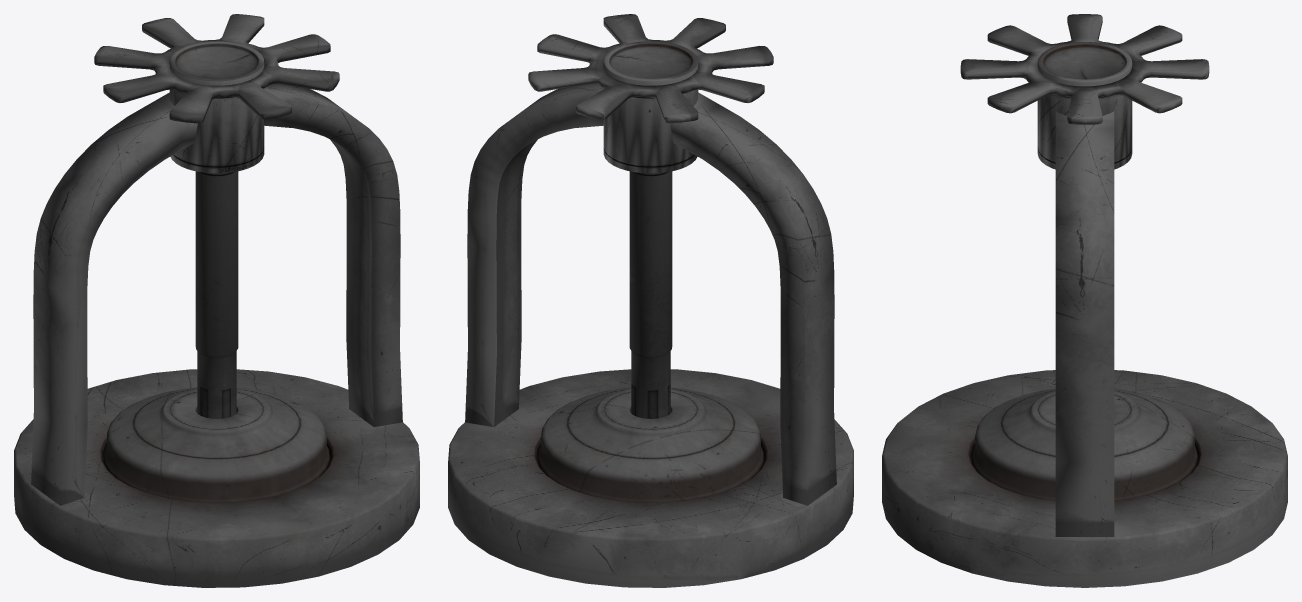
The model's file is Sprinkler.fbx.
3 views of the same model, side by side, from view 1: azimuth 30°, elevation 25°; view 2: azimuth 150°, elevation 25°; view 3: azimuth 270°, elevation 25° (orthographic).
Visible parts, largest first — view 1: SM_FireSprinkler; view 2: SM_FireSprinkler; view 3: SM_FireSprinkler.
Part boxes in pixels (x1,y1,x2,y2): SM_FireSprinkler: (14,14,419,587); SM_FireSprinkler: (448,14,853,587); SM_FireSprinkler: (882,14,1287,587).
Bounding box in the file's own units: 8.76 × 10.49 × 8.76.
